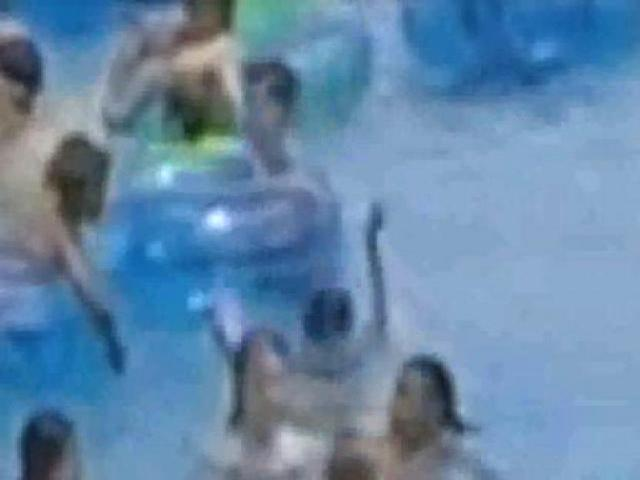drowning: (293, 255, 393, 371)
swimming: (103, 0, 237, 113), (0, 108, 103, 232), (189, 58, 294, 174), (211, 320, 287, 480), (393, 363, 461, 479), (10, 405, 88, 479)
